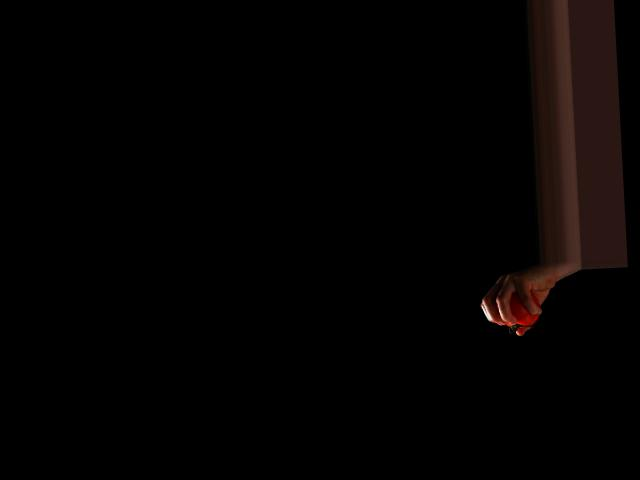tomato: (504, 289, 541, 326)
